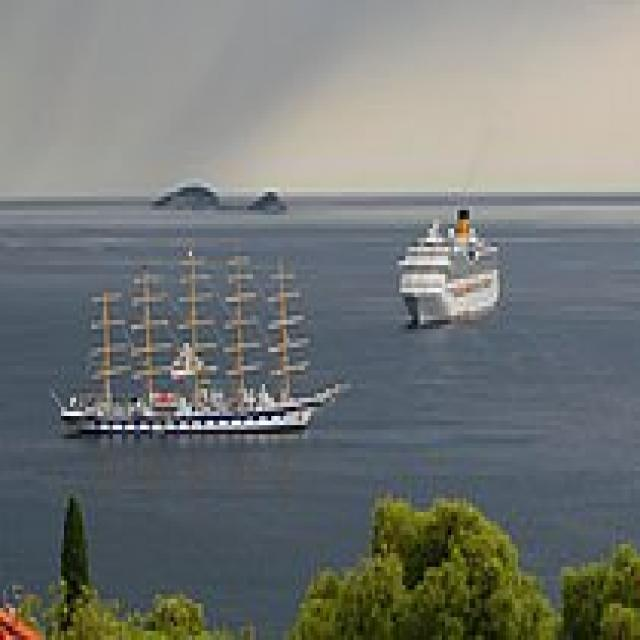Ship: (388, 198, 513, 349)
